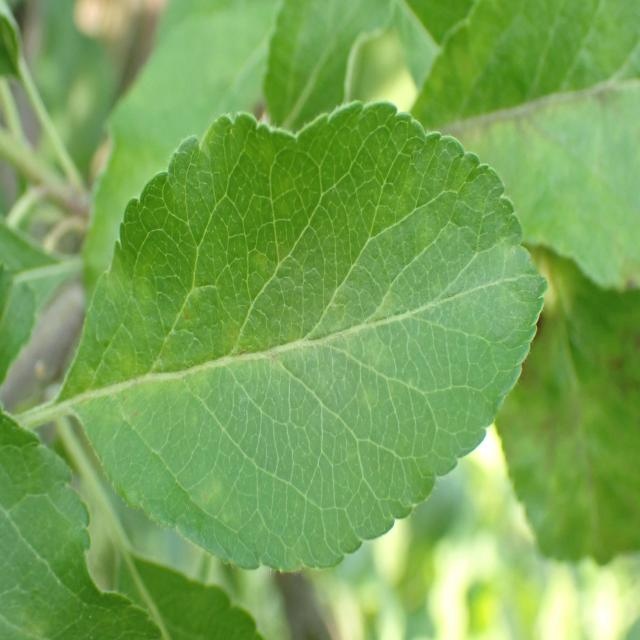scab: (82, 266, 459, 462)
